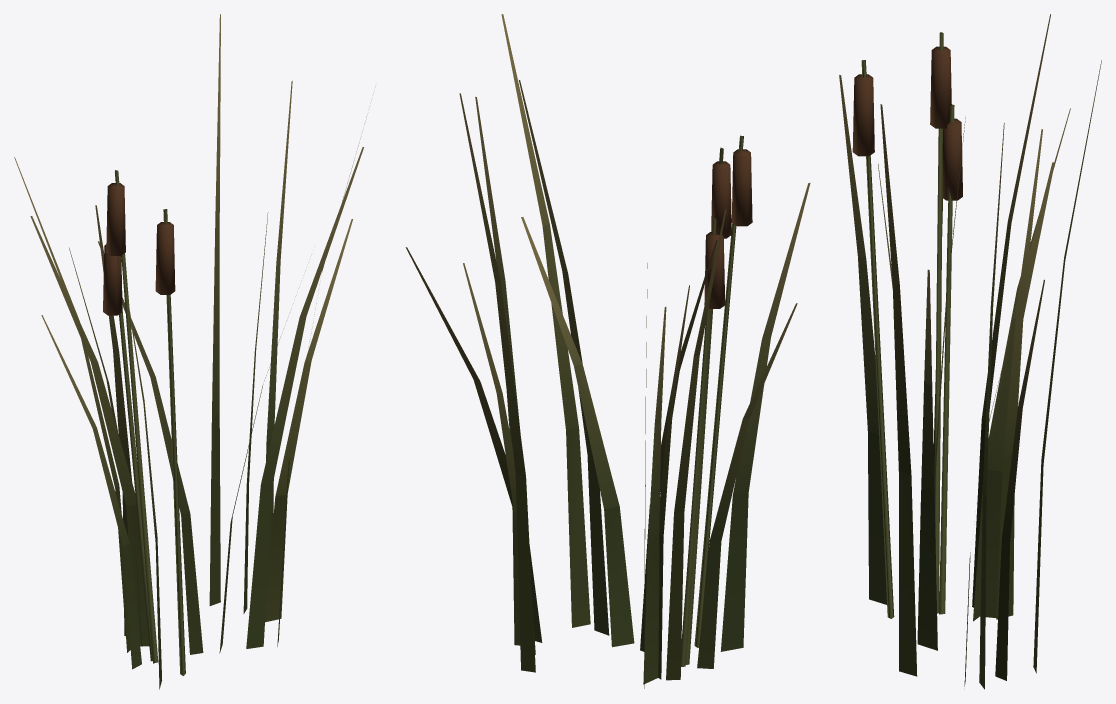
Rendered from reeds.glb.
3 renders of one model, left to right at view 1: azimuth 30°, elevation 25°; view 2: azimuth 150°, elevation 25°; view 3: azimuth 270°, elevation 25°, orthographic. The views are drawn at different scales.
Visible parts, largest first — view 1: LOD0; view 2: LOD0; view 3: LOD0.
Boxes of the visible parts, box(x1,y1,x2,y2) form: LOD0: box(14, 14, 366, 689); LOD0: box(405, 14, 810, 688); LOD0: box(839, 14, 1101, 689).
Size of what is drawn, in the model's own units: 1.4 by 2.2 by 0.8309.
